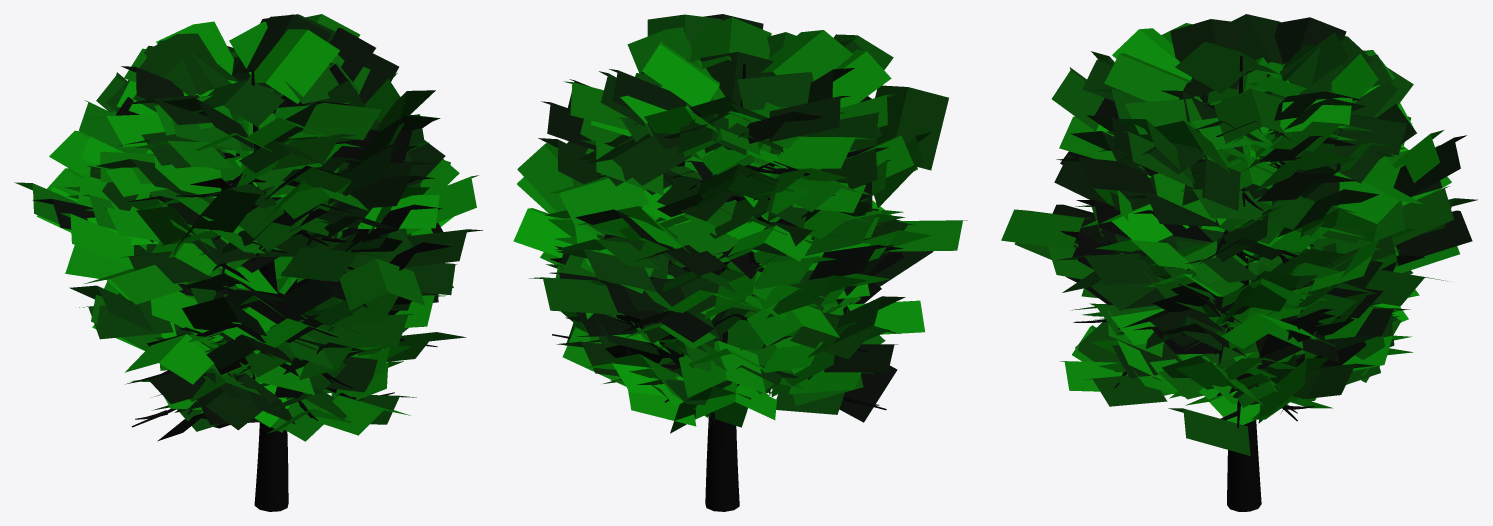
The picture shows the model from 3 angles, left to right: view 1: azimuth 30°, elevation 25°; view 2: azimuth 150°, elevation 25°; view 3: azimuth 270°, elevation 25°; orthographic projection.
Visible parts, largest first — view 1: IL3DN_Tree_Birch_02_OneMesh_LOD0; view 2: IL3DN_Tree_Birch_02_OneMesh_LOD0; view 3: IL3DN_Tree_Birch_02_OneMesh_LOD0.
Part boxes in pixels (x1,y1,x2,y2): IL3DN_Tree_Birch_02_OneMesh_LOD0: (14,14,482,511); IL3DN_Tree_Birch_02_OneMesh_LOD0: (513,14,967,511); IL3DN_Tree_Birch_02_OneMesh_LOD0: (1001,14,1477,511).
Size of what is drawn, in the model's own units: 683 by 742 by 709.
